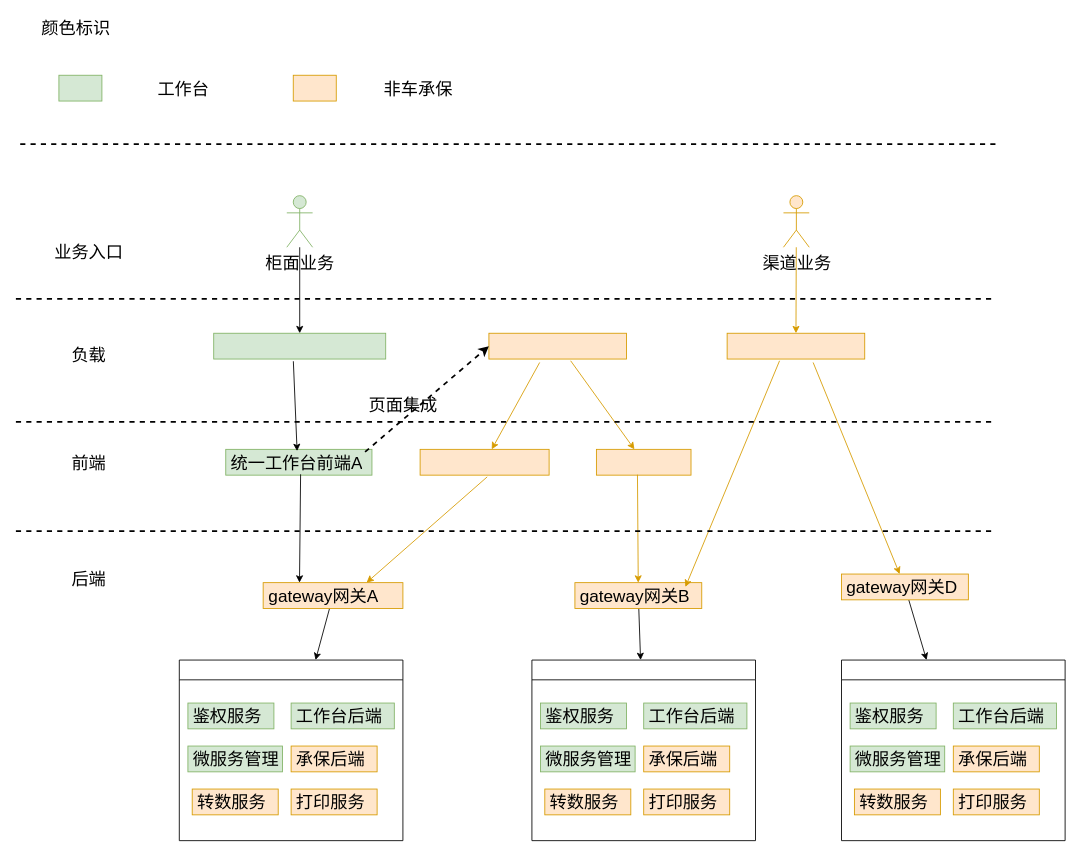
The diagram is 1080 pixels wide and 856 high, and some of its shapes have lost their labels. The shapes that lost their labels are listed below. From the top down, each one's box as (x1, y1, x2, y2) in pixels, then its label:
(213, 332, 386, 359): 统一工作台负载
(488, 332, 627, 359): 承保负载
(726, 332, 865, 359): 转数负载
(419, 448, 549, 475): 承保前端A
(596, 448, 691, 475): 承保前端B
(178, 659, 403, 841): A区服务
(531, 659, 756, 841): B区服务
(841, 659, 1065, 841): D区服务
